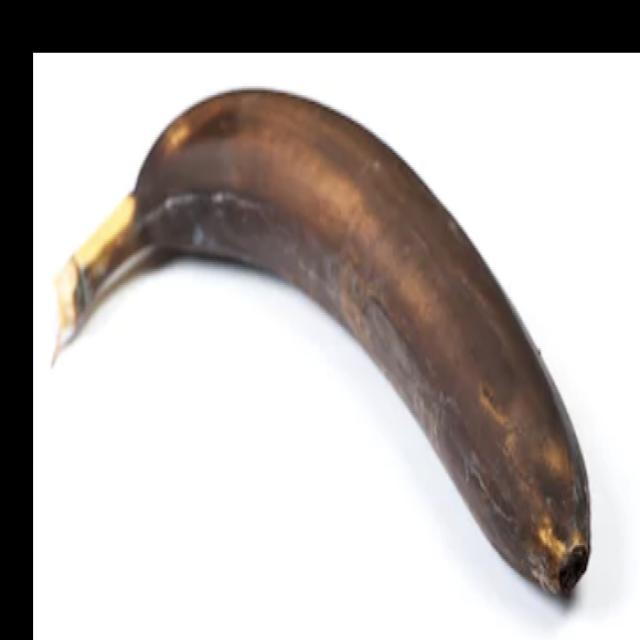Rotten: (51, 82, 603, 623)
